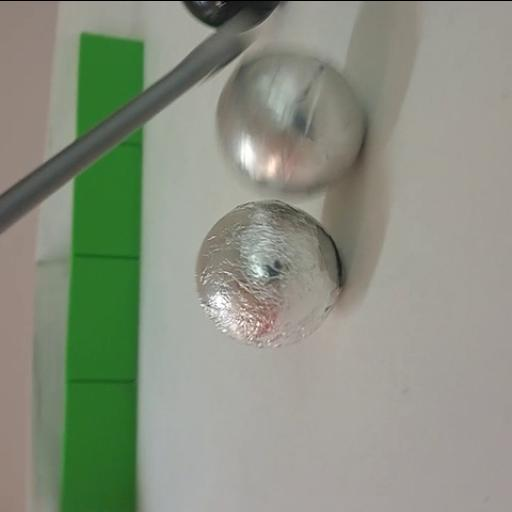alive: (213, 50, 369, 198), (194, 198, 342, 348)
dead: (176, 0, 280, 31)
